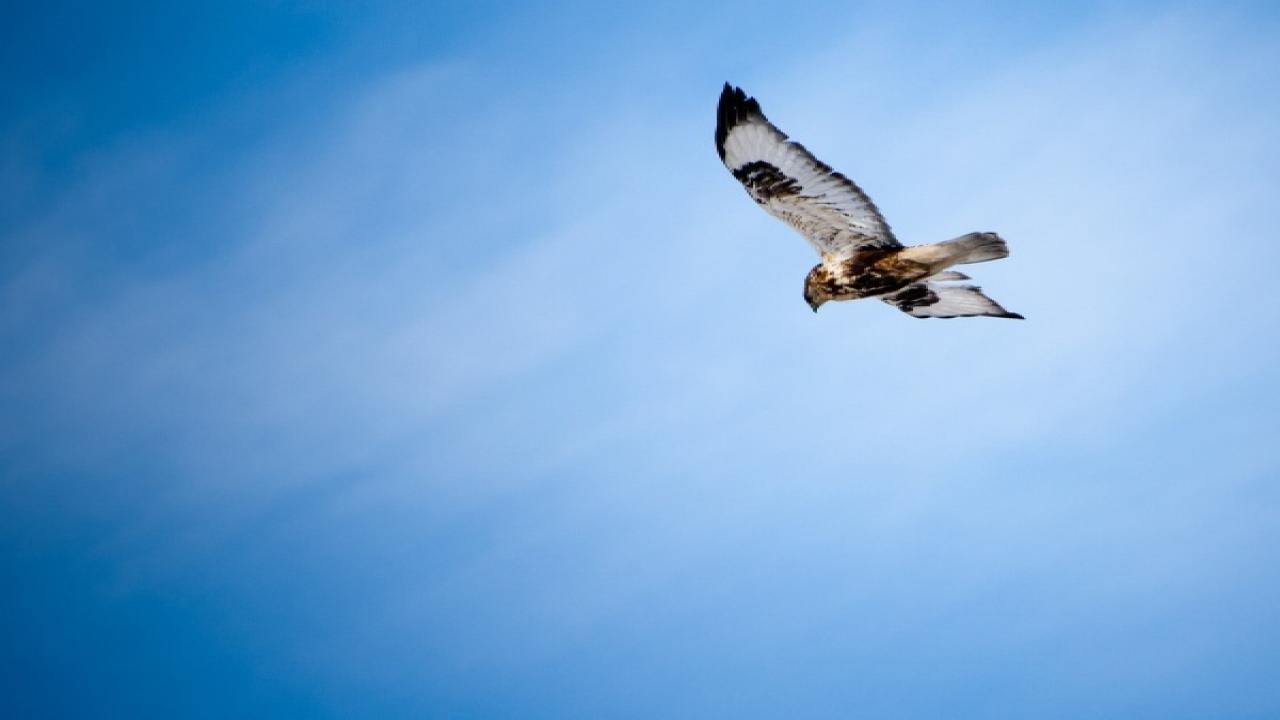Bird: (702, 75, 1038, 325)
